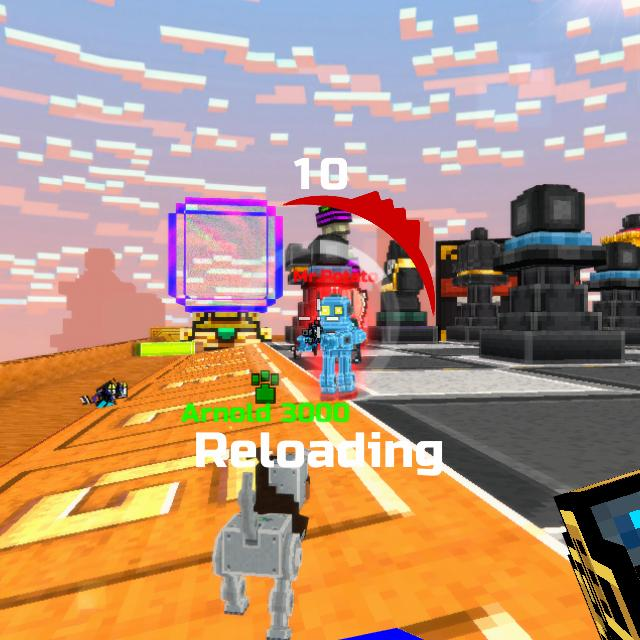Enemy: (297, 287, 367, 402)
